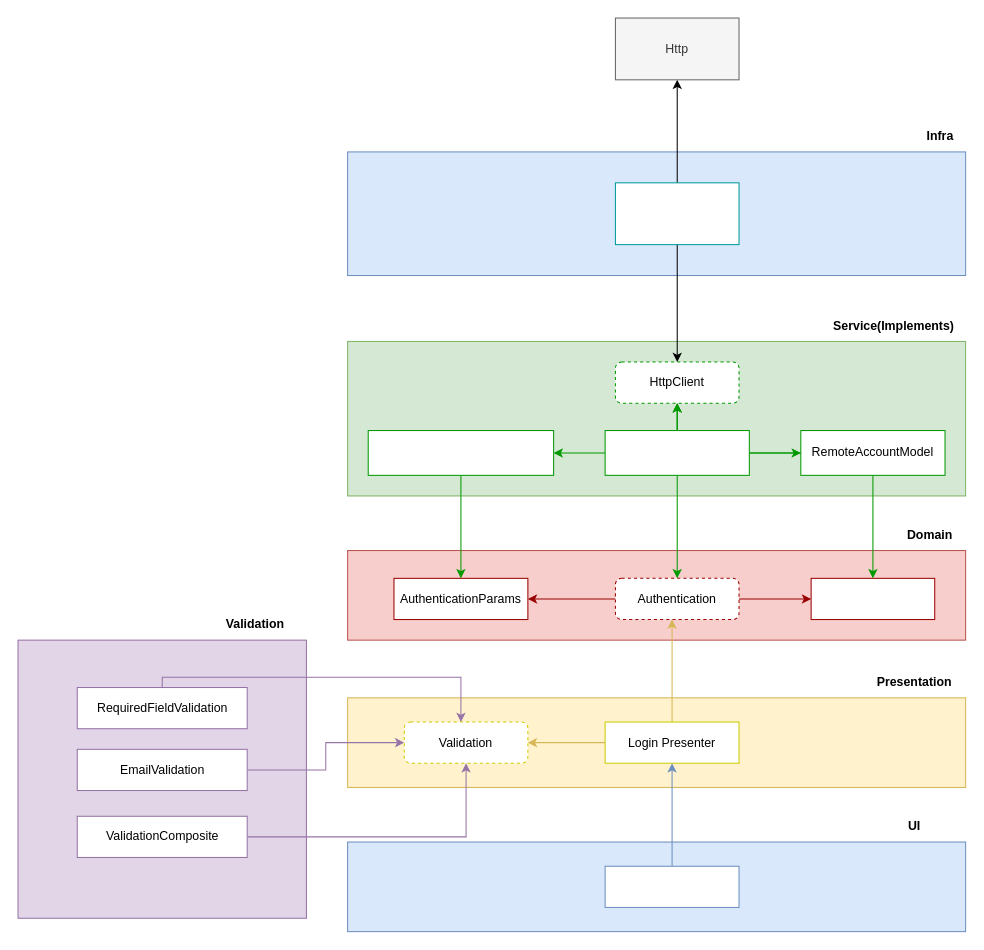
The diagram is 984 pixels wide and 950 high, and some of its shapes have lost their labels. Each missing label, with the centre of its shape:
"AccountEntity" goes at [872,598].
"HttpAdapter" goes at [676,213].
"Login Page" goes at [671,886].
"RemoteAuthentication" goes at [676,452].
"RemoteAuthenticationParams" goes at [460,452].
